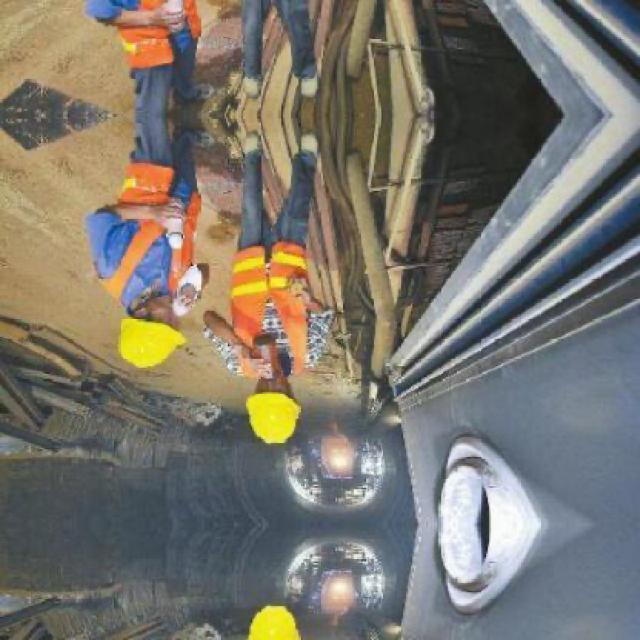con casco: (214, 335, 354, 451), (93, 262, 209, 389)
